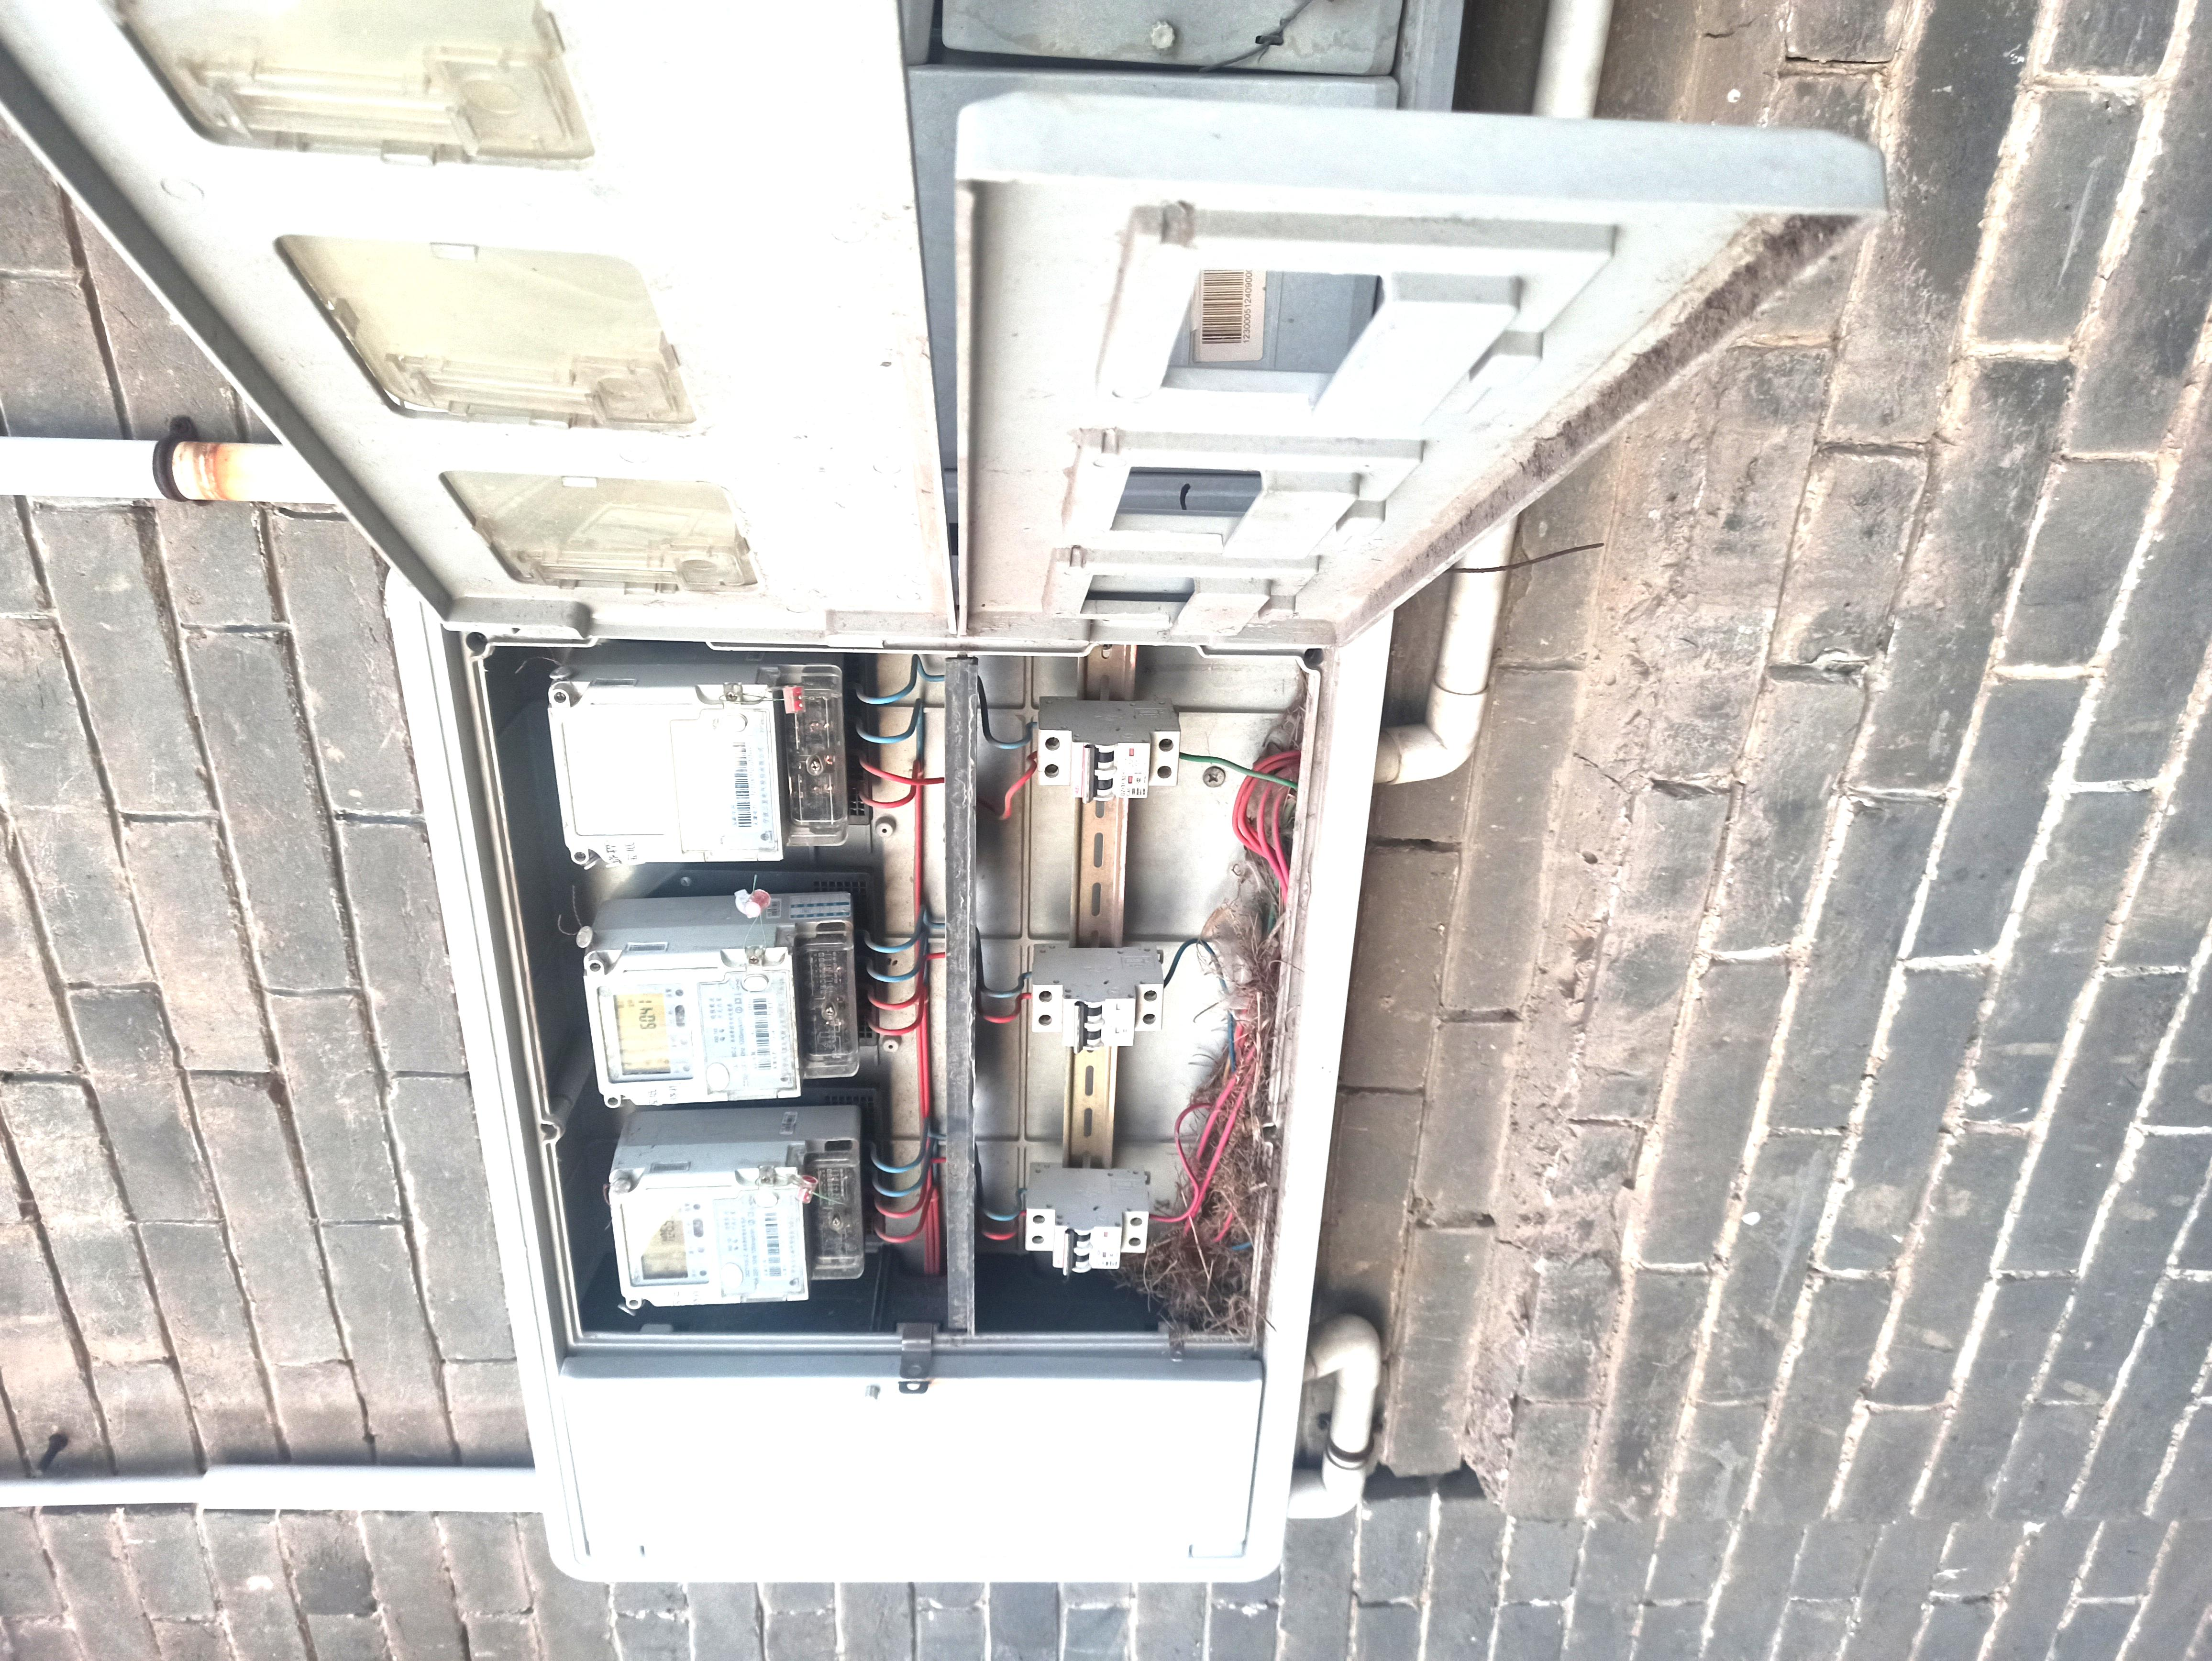digital: (546, 689, 778, 869), (583, 947, 799, 1101), (602, 1164, 813, 1303)
